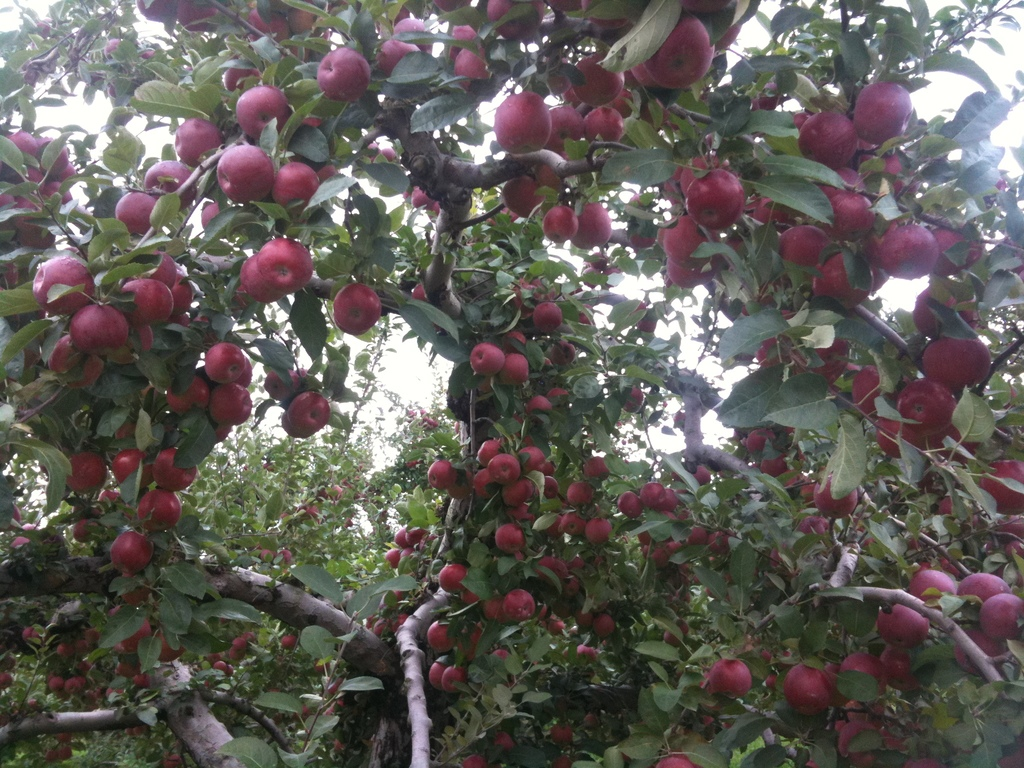Apple: (0, 0, 1023, 767), (681, 156, 759, 238)
